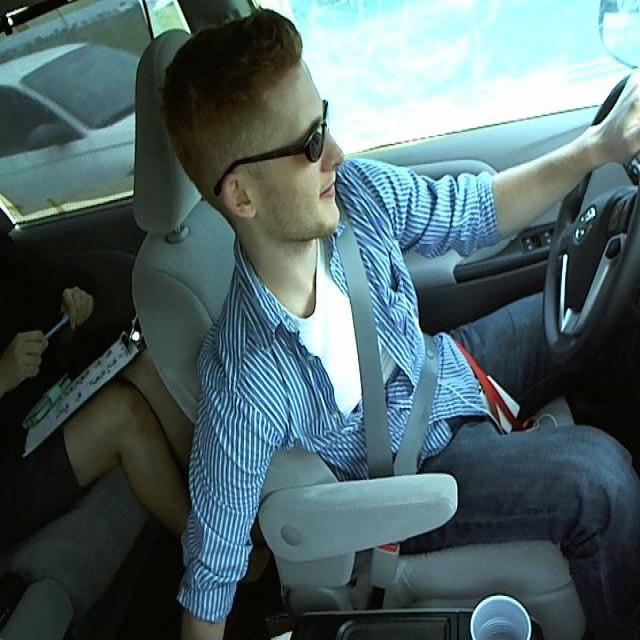seatbelt: (336, 245, 428, 467)
